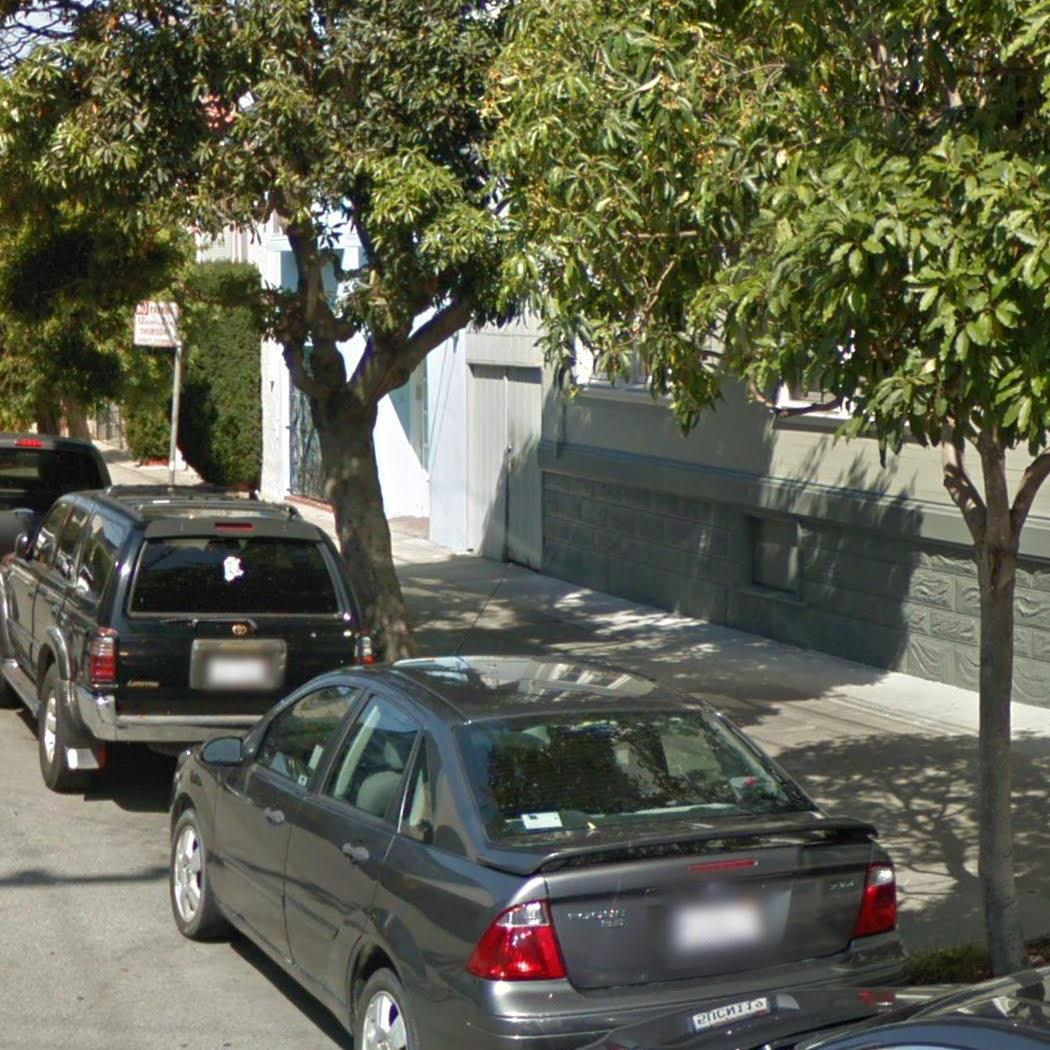No Parking: (131, 296, 182, 349)
